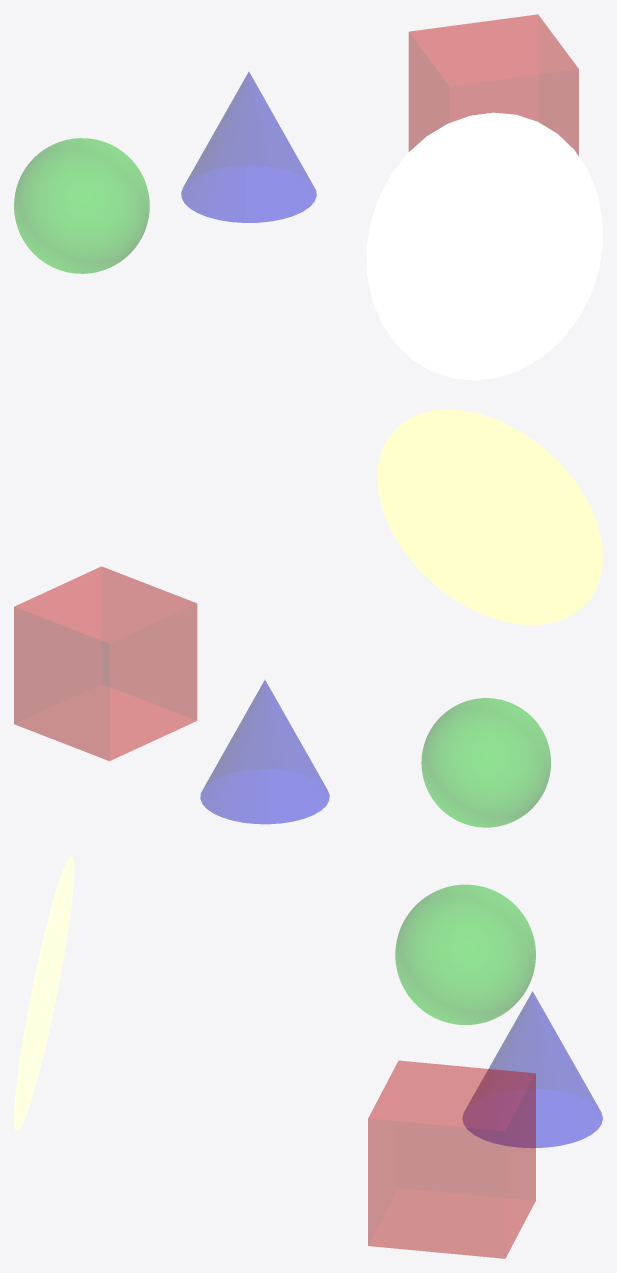
Rendered from AreaLight.gltf.
3 renders of one model, top to bottom at view 1: azimuth 30°, elevation 25°; view 2: azimuth 150°, elevation 25°; view 3: azimuth 270°, elevation 25°, orthographic. The views are drawn at different scales.
Visible parts, largest first — view 1: Circle, Cube, Sphere, Cone; view 2: Circle, Cube, Sphere, Cone; view 3: Cube, Sphere, Cone, Circle.
Part boxes in pixels (<box>): Circle: <box>366,112,602,380</box>; Cube: <box>409,14,578,155</box>; Sphere: <box>14,138,149,273</box>; Cone: <box>181,72,316,222</box>; Circle: <box>377,409,602,624</box>; Cube: <box>14,566,196,760</box>; Sphere: <box>421,698,550,827</box>; Cone: <box>200,680,329,823</box>; Cube: <box>368,1061,535,1258</box>; Sphere: <box>395,885,535,1024</box>; Cone: <box>462,991,602,1147</box>; Circle: <box>14,856,74,1131</box>.
Size of what is drawn, in the model's own units: 9.08 by 3.92 by 8.37.
